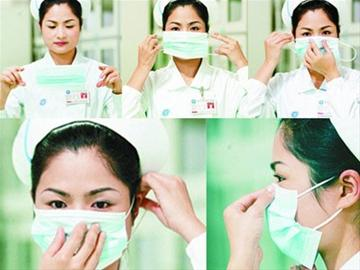face: (40, 5, 79, 53)
face_mask: (33, 154, 128, 266), (265, 135, 336, 257), (163, 8, 207, 59), (296, 11, 337, 64)
